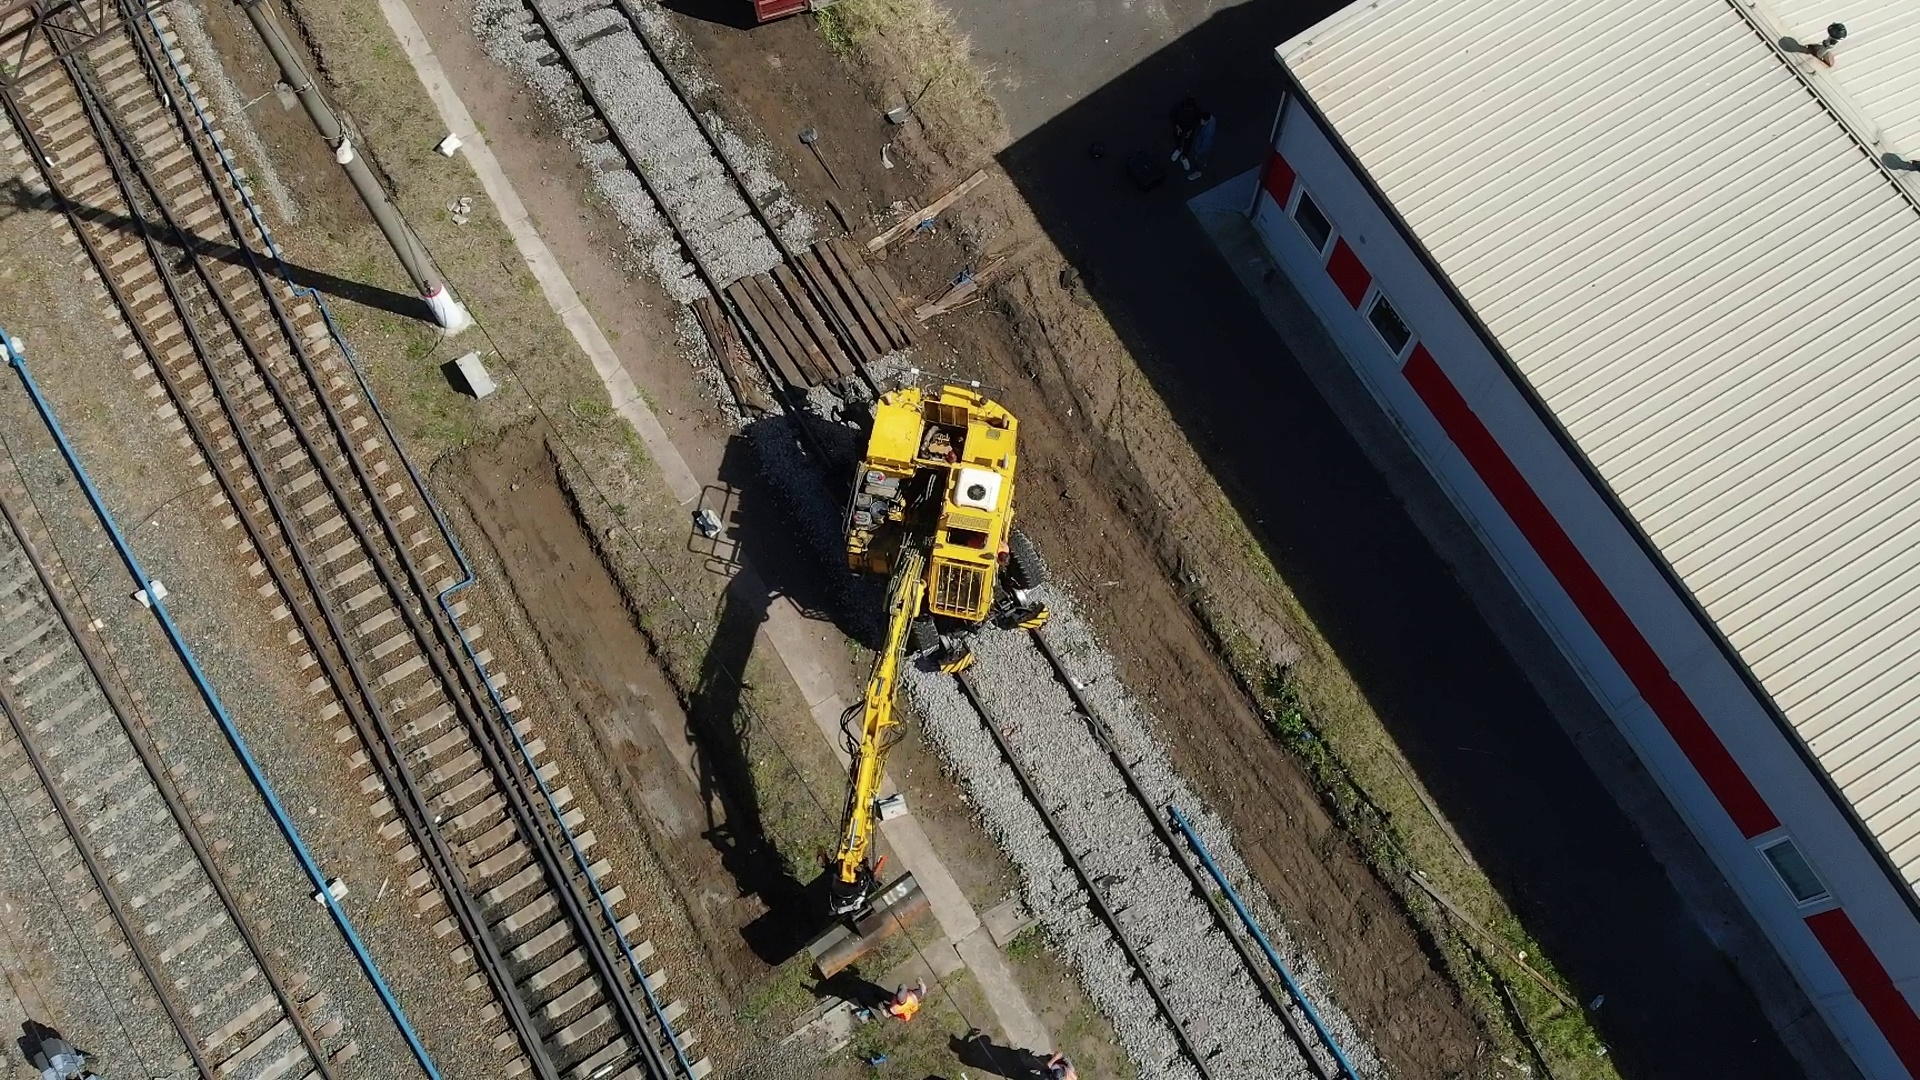kjtv: (843, 380, 1047, 673)
